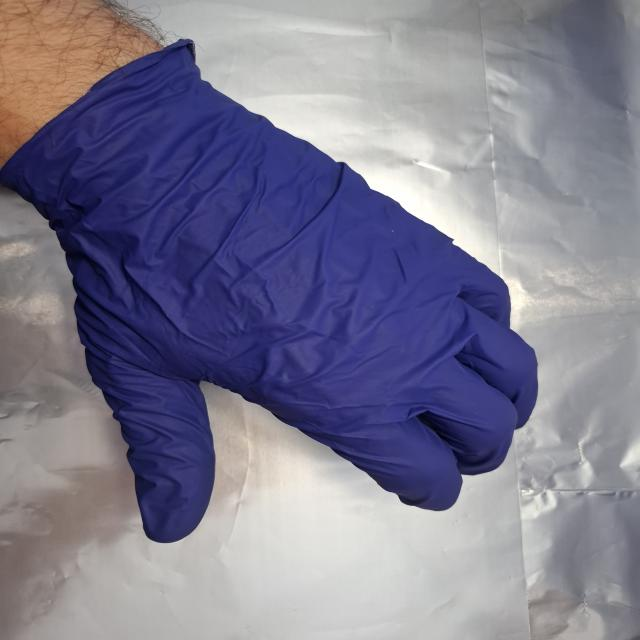glove_on: (16, 42, 544, 547)
